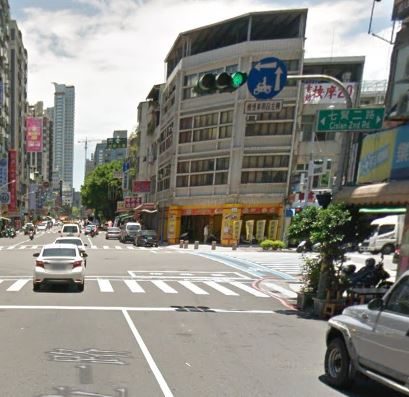Traffic_light_green: (193, 72, 246, 95)
car: (31, 243, 88, 295)
